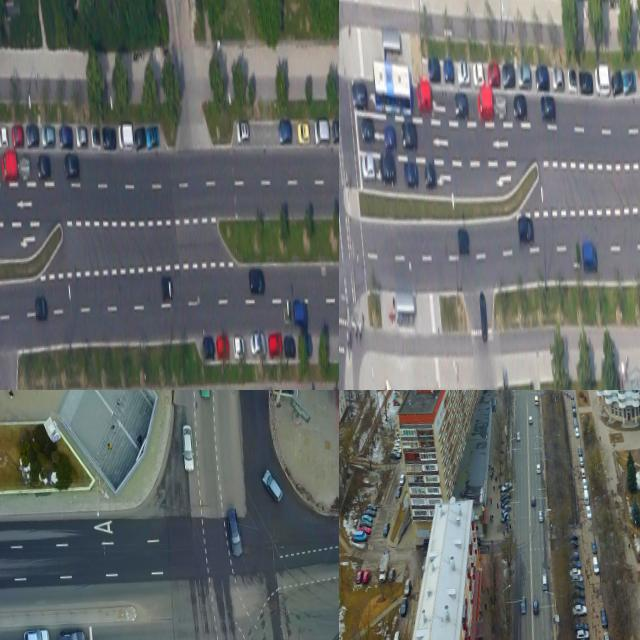UAI: (225, 506, 244, 559), (261, 468, 284, 504), (180, 424, 196, 472), (378, 150, 396, 187), (415, 79, 432, 114), (0, 149, 17, 182), (477, 291, 488, 342), (476, 87, 493, 120), (593, 62, 609, 95), (581, 241, 598, 272), (350, 78, 367, 109), (292, 297, 309, 327), (517, 215, 534, 245), (402, 159, 418, 189), (401, 121, 417, 151), (539, 92, 555, 122), (360, 115, 375, 146), (361, 150, 376, 181), (248, 268, 265, 295), (313, 117, 329, 145), (453, 90, 469, 118), (577, 69, 593, 97), (535, 62, 550, 91), (63, 152, 79, 179), (117, 122, 133, 149), (249, 332, 266, 357), (512, 93, 527, 121), (36, 153, 51, 180), (267, 331, 283, 356), (423, 161, 437, 189), (622, 67, 636, 95), (501, 60, 515, 88), (456, 227, 470, 255), (516, 63, 531, 89), (22, 626, 49, 640), (487, 59, 500, 88), (277, 118, 292, 143), (383, 124, 396, 152), (57, 627, 85, 640), (58, 125, 73, 149), (34, 296, 48, 321), (202, 334, 216, 359), (25, 122, 39, 147), (160, 274, 173, 300), (457, 59, 470, 85), (427, 56, 440, 82), (102, 126, 116, 150), (40, 124, 54, 148), (611, 68, 623, 96), (471, 60, 483, 88), (232, 333, 245, 358), (551, 65, 564, 90), (235, 119, 249, 142), (18, 155, 30, 181), (442, 58, 454, 84), (145, 125, 159, 147), (566, 65, 577, 93), (216, 335, 229, 358), (282, 334, 295, 357), (133, 125, 146, 148), (11, 124, 24, 147), (297, 120, 309, 143), (75, 124, 87, 146), (495, 95, 506, 118), (330, 117, 339, 143), (571, 603, 587, 617), (90, 125, 99, 148), (282, 303, 291, 325), (571, 247, 580, 269), (600, 606, 608, 628), (0, 122, 7, 147), (575, 628, 589, 640), (570, 581, 585, 592), (574, 621, 589, 632), (571, 589, 585, 600), (519, 596, 527, 614), (540, 573, 548, 591), (572, 597, 586, 607), (500, 503, 511, 515), (500, 481, 512, 492), (569, 559, 582, 569), (571, 574, 584, 584), (499, 511, 509, 524), (499, 497, 510, 508), (567, 532, 579, 542), (532, 598, 539, 614), (590, 539, 597, 555), (569, 551, 580, 561), (499, 492, 510, 502), (569, 568, 581, 577), (585, 505, 592, 520), (567, 541, 579, 549), (530, 494, 537, 507), (602, 630, 611, 640), (538, 509, 544, 521), (582, 478, 588, 490), (579, 455, 584, 467), (577, 444, 582, 456), (573, 417, 578, 428), (580, 467, 585, 477), (574, 427, 579, 437), (572, 407, 577, 417), (536, 464, 541, 474), (515, 431, 520, 441), (528, 416, 533, 425), (570, 390, 575, 399), (571, 400, 576, 408)
car: (371, 57, 412, 116)
harvester: (592, 556, 600, 575), (583, 489, 590, 504), (534, 396, 539, 406)
